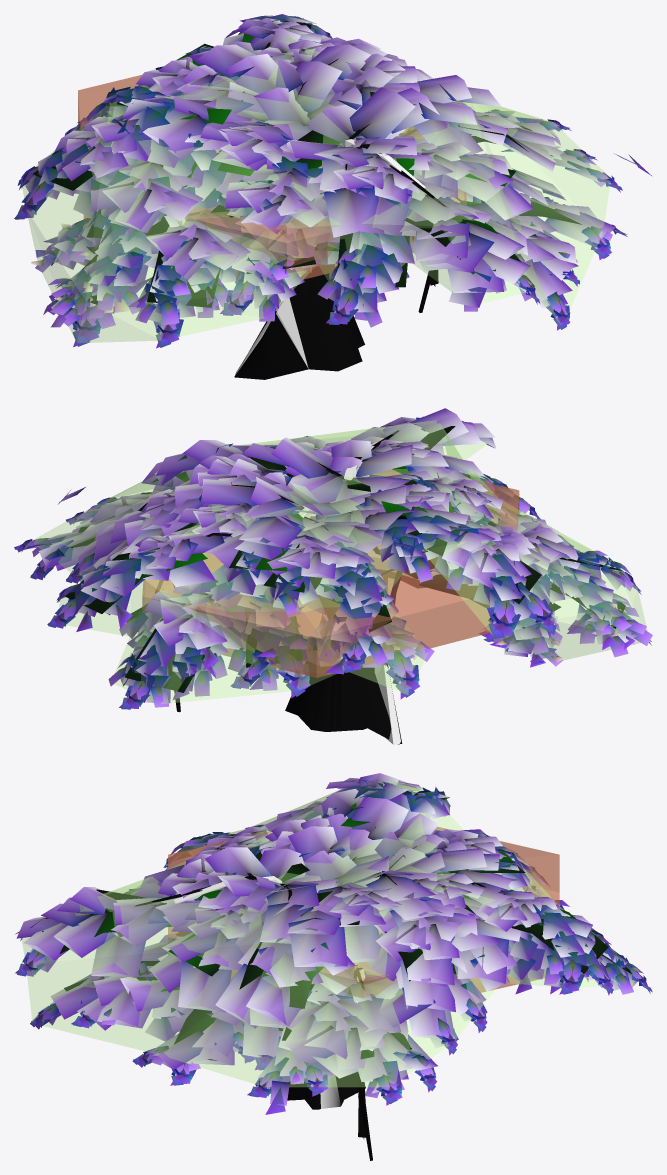
The model's file is tro_tree_1_huge.dae.
3 renders of one model, top to bottom at view 1: azimuth 30°, elevation 25°; view 2: azimuth 150°, elevation 25°; view 3: azimuth 270°, elevation 25°, orthographic. The views are drawn at different scales.
Parts seen in each view (by area): view 1: tree_oak_large_b700, Colmesh-1, tree_oak_large_b280; view 2: tree_oak_large_b700, Colmesh-1, tree_oak_large_b280; view 3: tree_oak_large_b700, Colmesh-1, tree_oak_large_b280.
Part boxes in pixels (bbox=[...]): tree_oak_large_b700: bbox=[14, 14, 627, 379]; Colmesh-1: bbox=[22, 33, 610, 375]; tree_oak_large_b280: bbox=[25, 18, 652, 358]; tree_oak_large_b700: bbox=[14, 408, 652, 744]; Colmesh-1: bbox=[33, 420, 647, 744]; tree_oak_large_b280: bbox=[28, 418, 649, 739]; tree_oak_large_b700: bbox=[15, 773, 652, 1156]; Colmesh-1: bbox=[21, 781, 638, 1108]; tree_oak_large_b280: bbox=[24, 780, 625, 1160].
Bounding box in the file's own units: 31.1 × 30.5 × 13.28.
